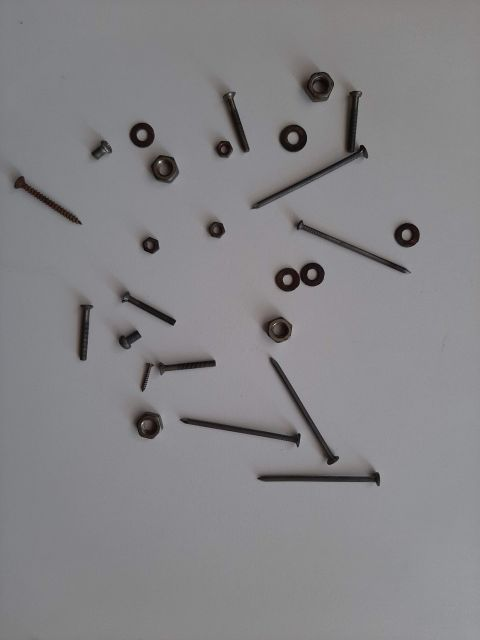gwozdz: (245, 335, 355, 475), (275, 205, 415, 295), (235, 135, 365, 215), (245, 445, 395, 505), (155, 395, 305, 445)
nakretka: (125, 385, 175, 445), (125, 215, 175, 265), (135, 135, 185, 185), (265, 305, 305, 355), (295, 45, 335, 95), (185, 215, 235, 245)
podkladka: (245, 95, 305, 155), (385, 185, 425, 265), (125, 95, 175, 155), (295, 235, 335, 305), (265, 245, 305, 295)
sruba: (135, 325, 235, 385), (205, 65, 265, 155), (325, 65, 385, 155), (105, 275, 185, 325), (65, 275, 95, 365)
